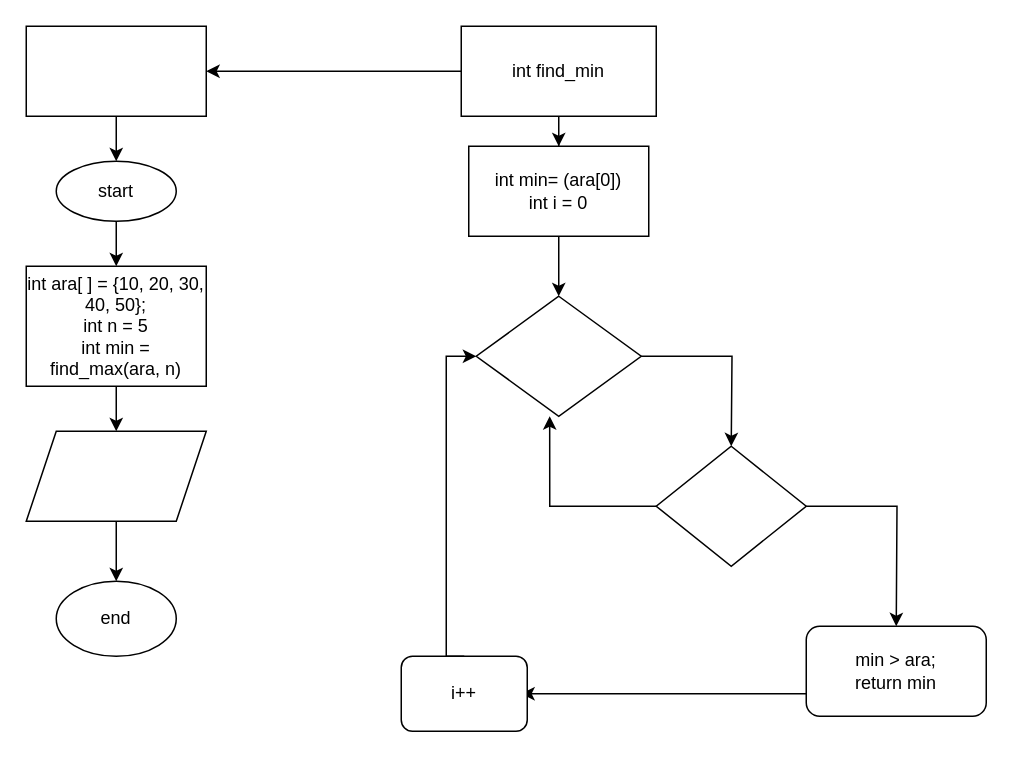
The diagram is 1013 pixels wide and 758 high, and some of its shapes have lost their labels. The centre of each missing label's shape, as x and y in pixels:
"ara[ i ] = min" belongs at point (730, 505).
"i < n" belongs at point (558, 355).
"int find_min(int ara [ ], int n;" belongs at point (115, 70).
"printf min" belongs at point (115, 475).
